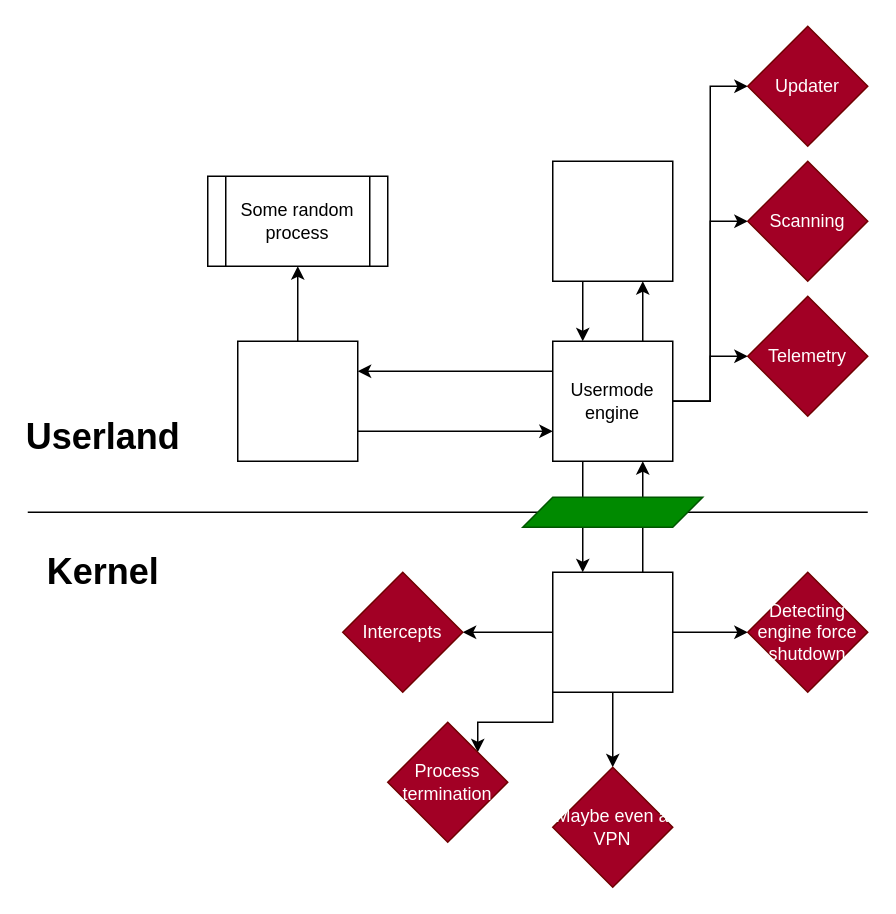
This 896x914 diagram has some shape labels left out. Here are the shapes that lost their labels. From the top down, the centre of each, then its label:
At [612,220]: "GUI - Tauri framework".
At [297,400]: "Injected process DLL".
At [612,511]: "IOCTL".
At [612,631]: "Sanctum Driver".
